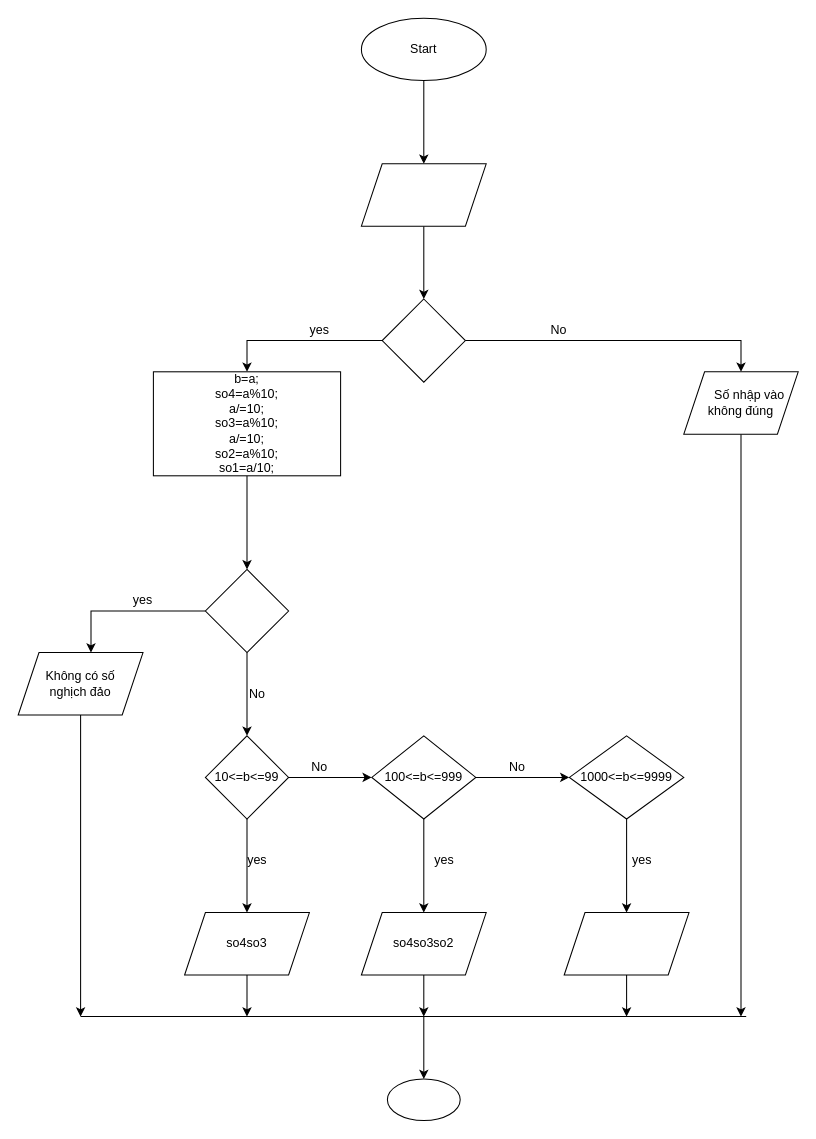
Some shapes in this 816 by 1139 pixel diagram are drawn without their labels. The centre of each missing label's shape, as x and y in pixels:
"0<a<10000" goes at (x=423, y=340).
"1<=b<=9" goes at (x=246, y=610).
"end" goes at (x=423, y=1099).
"Nhập số nguyên dương a ko quá 4 chữ số" goes at (x=423, y=194).
"so4so3so2so1" goes at (x=626, y=943).
